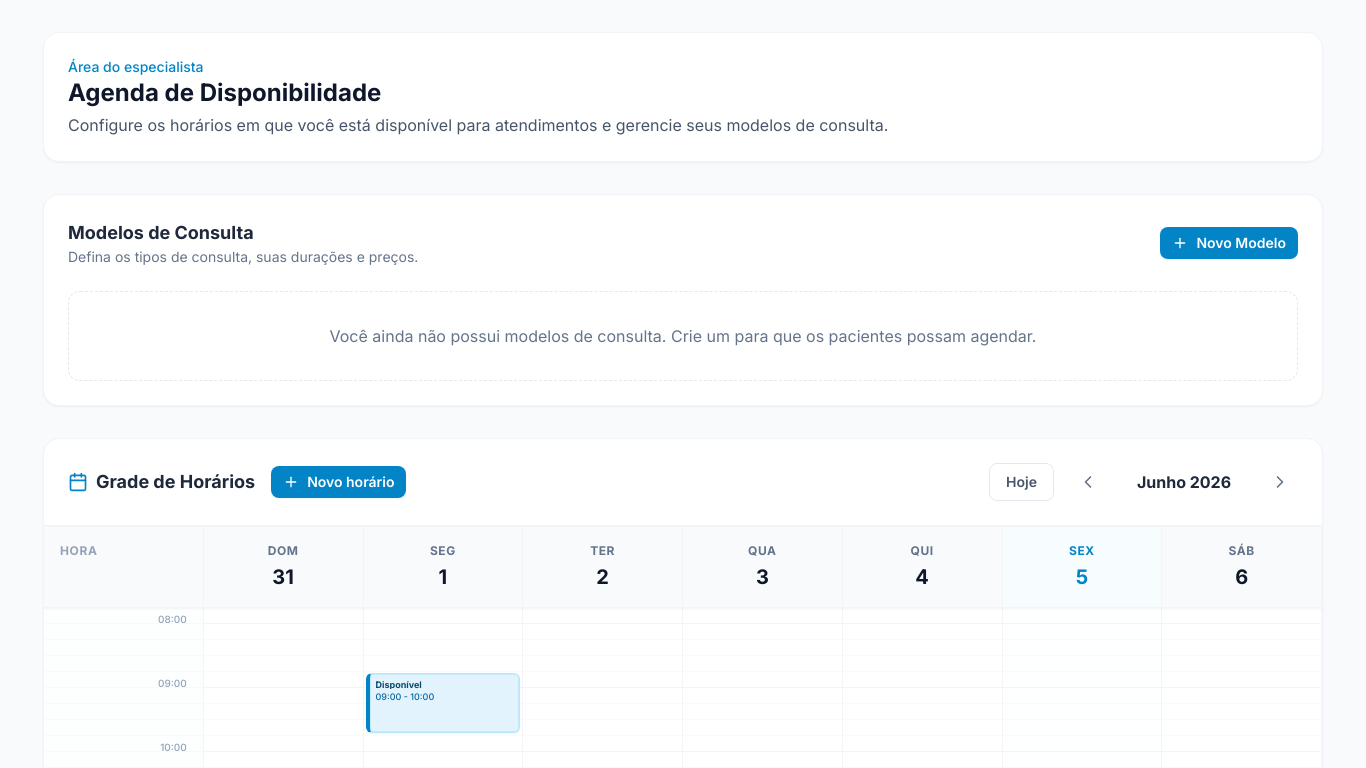
Test: DoctorAgenda - Availability management › deve abrir o modal de edição ao clicar em um slot existente
(page scrolled)
Expected: the heading "Agenda de Disponibilidade" is shown, [68, 78, 381, 107]
Note: Encontra o slot de disponibilidade
Click the text "09:00 - 10:00" at (405, 696), box [376, 691, 434, 702]
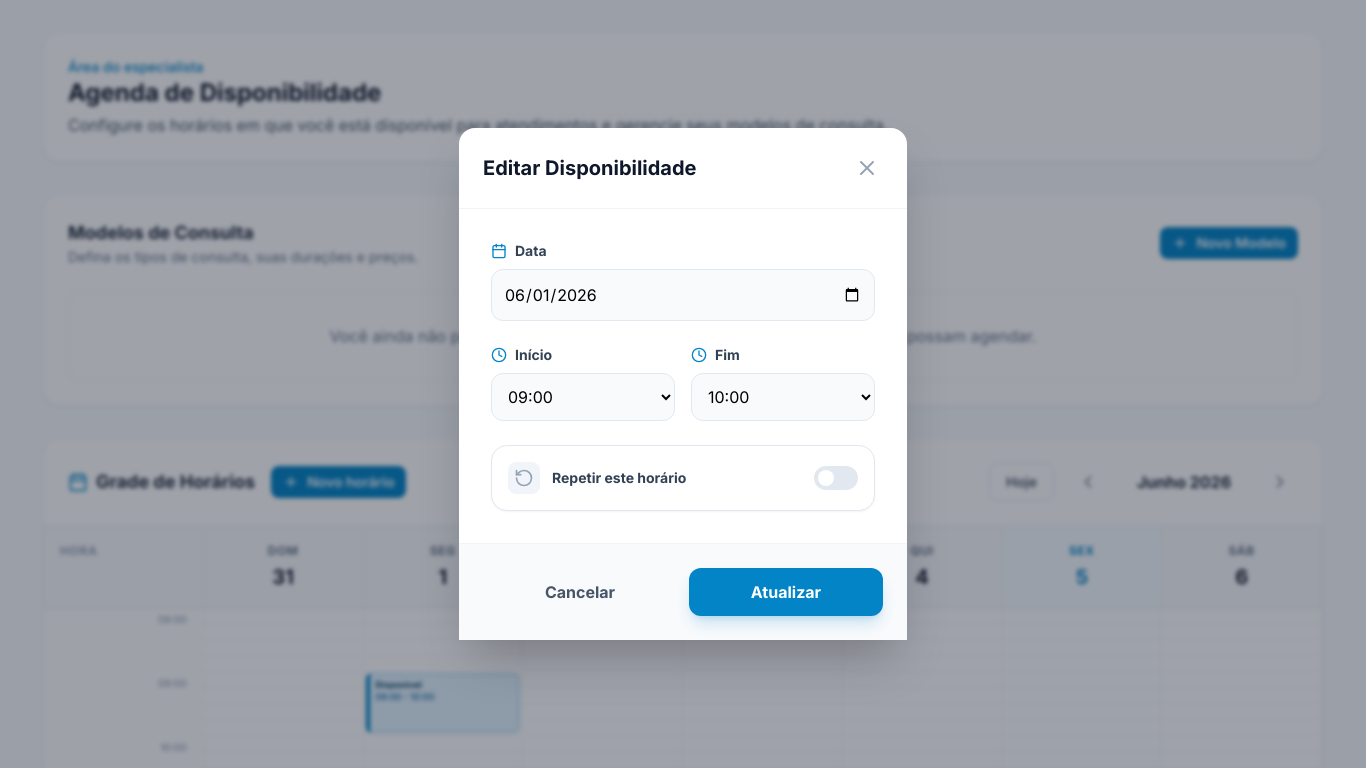
Expected: the heading "Editar Disponibilidade" is shown, [483, 154, 696, 182]
Expected: the date field labelled "Data" is shown, [491, 269, 875, 321]
Expected: the dropdown labelled "Início" shows "09:00", [491, 373, 675, 421]
